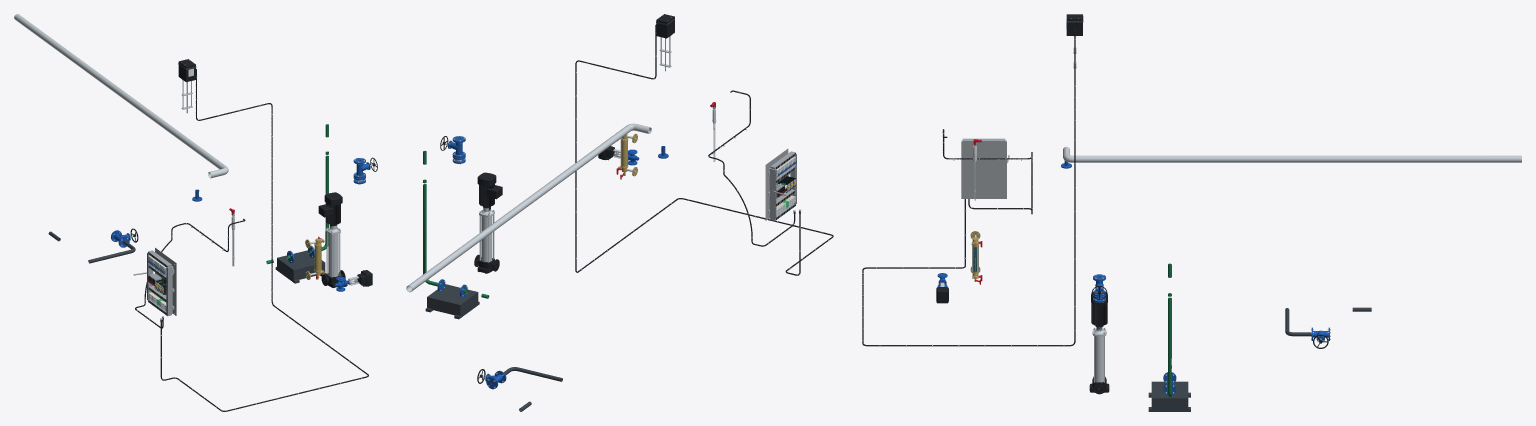
3 renders of one model, left to right at view 1: azimuth 30°, elevation 25°; view 2: azimuth 150°, elevation 25°; view 3: azimuth 270°, elevation 25°, orthographic. The views are drawn at different scales.
Parts seen in each view (by area): view 1: safety_vent_2 / steel, cabinet_interior / cabinet_interior_0.npz, gpz_drive_cable / black, pump_branch_2 / dark, pump_1 CAD solid 15, pump_1 CAD solid 2, bcv925 / bcv925_0.npz, sight_glasses_1 / sight_glasses_1_0.npz, pump_branch_2 / green, wiring_lp200 / black; view 2: safety_vent_2 / steel, cabinet_interior / cabinet_interior_0.npz, gpz_drive_cable / black, pump_branch_2 / dark, pump_1 CAD solid 15, pump_branch_2 / green, wiring_lp200 / black, sight_glasses_1 / sight_glasses_1_0.npz, pump_1 CAD solid 2; view 3: safety_vent_2 / steel, cabinet_interior / cabinet_interior_0.npz, gpz_drive_cable / black, pump_branch_2 / dark.
Boxes of the visible parts, <box> form: safety_vent_2 / steel: <box>14,14,228,178</box>; cabinet_interior / cabinet_interior_0.npz: <box>133,247,176,316</box>; gpz_drive_cable / black: <box>160,69,368,411</box>; pump_branch_2 / dark: <box>275,250,326,283</box>; pump_1 CAD solid 15: <box>318,192,342,225</box>; pump_1 CAD solid 2: <box>328,233,338,276</box>; bcv925 / bcv925_0.npz: <box>334,270,372,291</box>; sight_glasses_1 / sight_glasses_1_0.npz: <box>305,236,324,279</box>; pump_branch_2 / green: <box>266,124,328,264</box>; wiring_lp200 / black: <box>135,218,245,328</box>; safety_vent_2 / steel: <box>406,123,651,292</box>; cabinet_interior / cabinet_interior_0.npz: <box>765,148,796,220</box>; gpz_drive_cable / black: <box>575,24,833,275</box>; pump_branch_2 / dark: <box>425,284,479,319</box>; pump_1 CAD solid 15: <box>477,172,502,207</box>; pump_branch_2 / green: <box>423,151,489,298</box>; wiring_lp200 / black: <box>708,90,795,246</box>; sight_glasses_1 / sight_glasses_1_0.npz: <box>616,133,637,179</box>; pump_1 CAD solid 2: <box>481,216,492,261</box>; safety_vent_2 / steel: <box>1063,146,1521,162</box>; cabinet_interior / cabinet_interior_0.npz: <box>961,138,1009,198</box>; gpz_drive_cable / black: <box>862,29,1075,346</box>; pump_branch_2 / dark: <box>1148,381,1190,411</box>.
Bounding box in the file's own units: 3.77 × 3.57 × 7.03.
